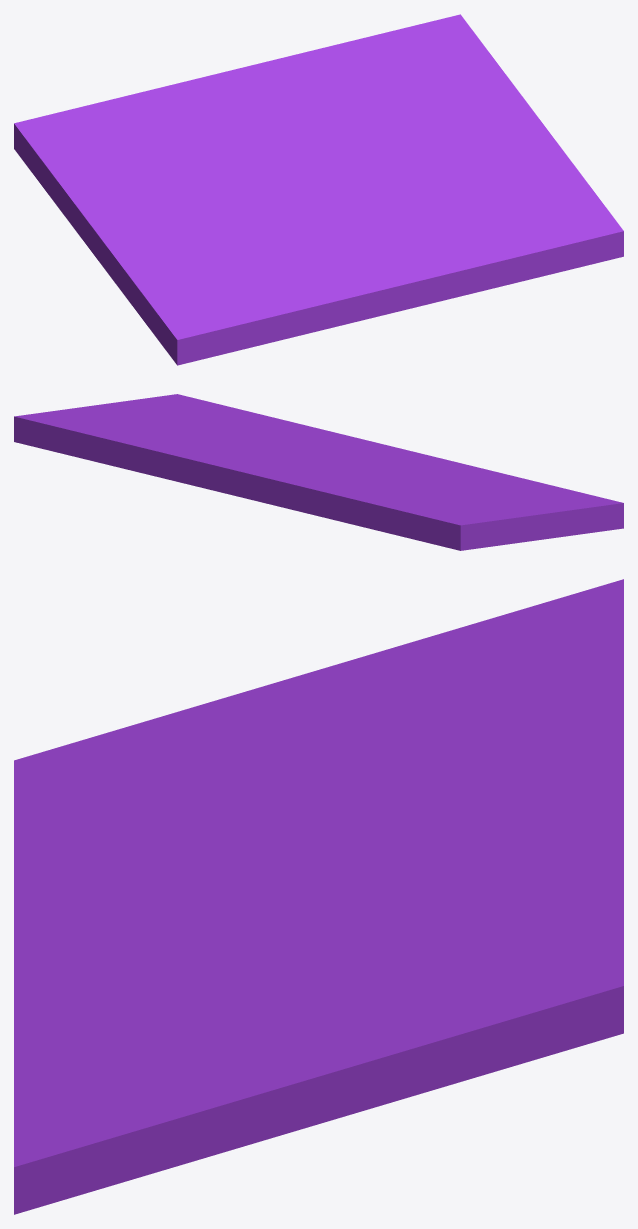
The model's file is Window_153_chunks.fbx.
3 views of the same model, one above another, from view 1: azimuth 30°, elevation 25°; view 2: azimuth 150°, elevation 25°; view 3: azimuth 270°, elevation 25° (orthographic). The views are drawn at different scales.
Visible parts, largest first — view 1: Window_153_1, Window_153_0, Window_153_3, Window_153_2; view 2: Window_153_3, Window_153_1, Window_153_0, Window_153_2; view 3: Window_153_1, Window_153_0, Window_153_3, Window_153_2.
Part boxes in pixels (<box>): Window_153_1: <box>336,14,623,298</box>; Window_153_0: <box>83,180,457,365</box>; Window_153_3: <box>14,63,289,243</box>; Window_153_2: <box>259,27,407,186</box>; Window_153_3: <box>160,465,532,550</box>; Window_153_1: <box>14,394,343,466</box>; Window_153_0: <box>319,434,623,540</box>; Window_153_2: <box>67,429,341,477</box>; Window_153_1: <box>14,890,623,1214</box>; Window_153_0: <box>14,656,363,1015</box>; Window_153_3: <box>328,579,623,846</box>; Window_153_2: <box>287,802,623,937</box>.
Bounding box in the file's own units: 1838 × 482 × 1165.
